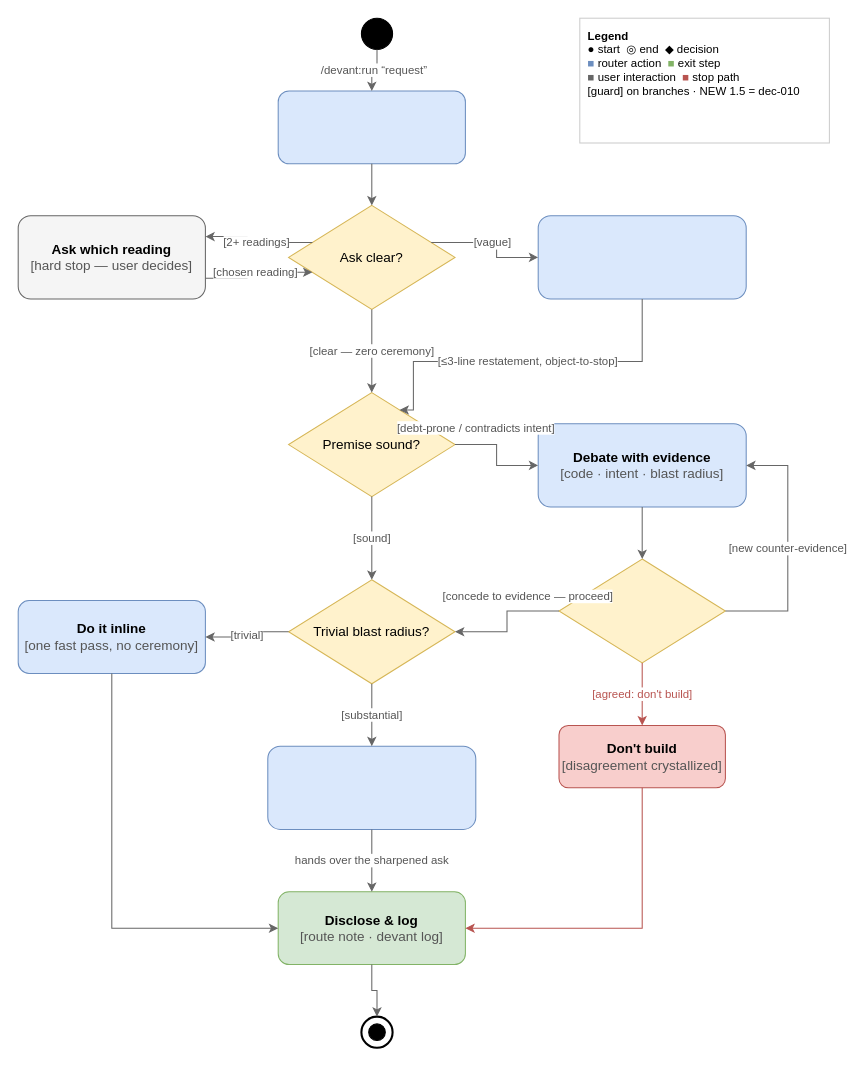
Image size: 865x1067. Some labels were removed from this diagram. The box of each missing label's shape, as (x1, y1, x2, y2) in pixels:
Debate outcome?: (558, 558, 725, 663)
Dispatch ONE specialist [ask · architect · diagram · code · document · intent]: (267, 745, 476, 829)
Ground the request [devant constraints · codegraph]: (277, 90, 465, 164)
Sharpen the ask [NEW 1.5 · prompt-guide.md outcome + scope + done-condition]: (537, 215, 746, 299)
